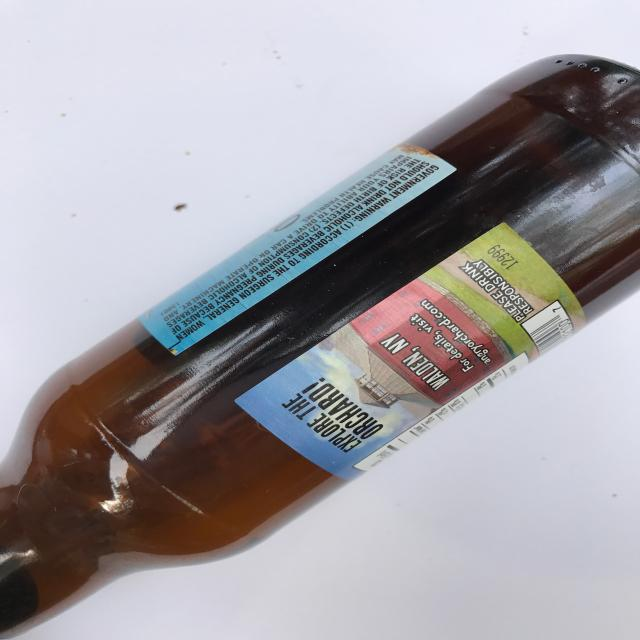glass: (1, 53, 639, 637)
